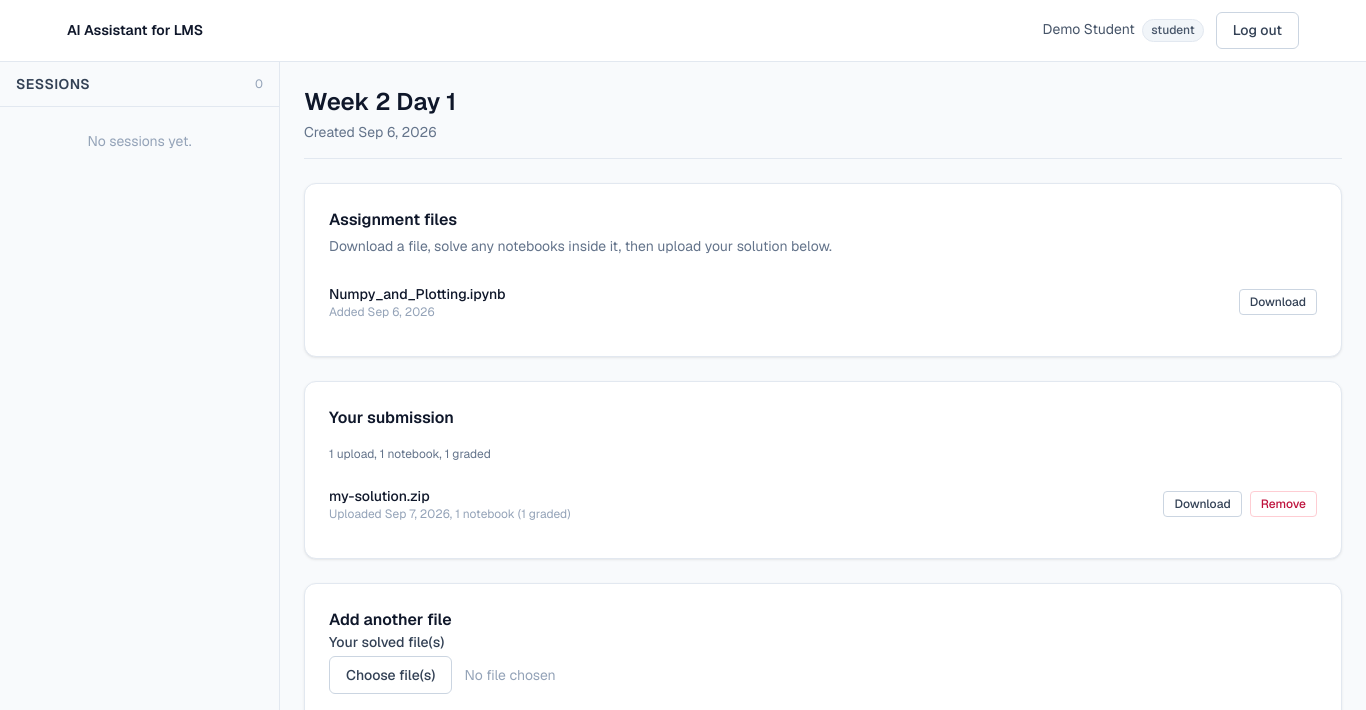
Test: <StudentSessionDetail /> — per-upload download › reports a download failure without disturbing the delete controls
Expected: the heading "Week 2 Day 1" is shown, [304, 86, 456, 117]
Step 1. Click the button "Download" in the row of ", 1 notebook (1 graded)" → (1203, 504), box [1163, 491, 1242, 517]
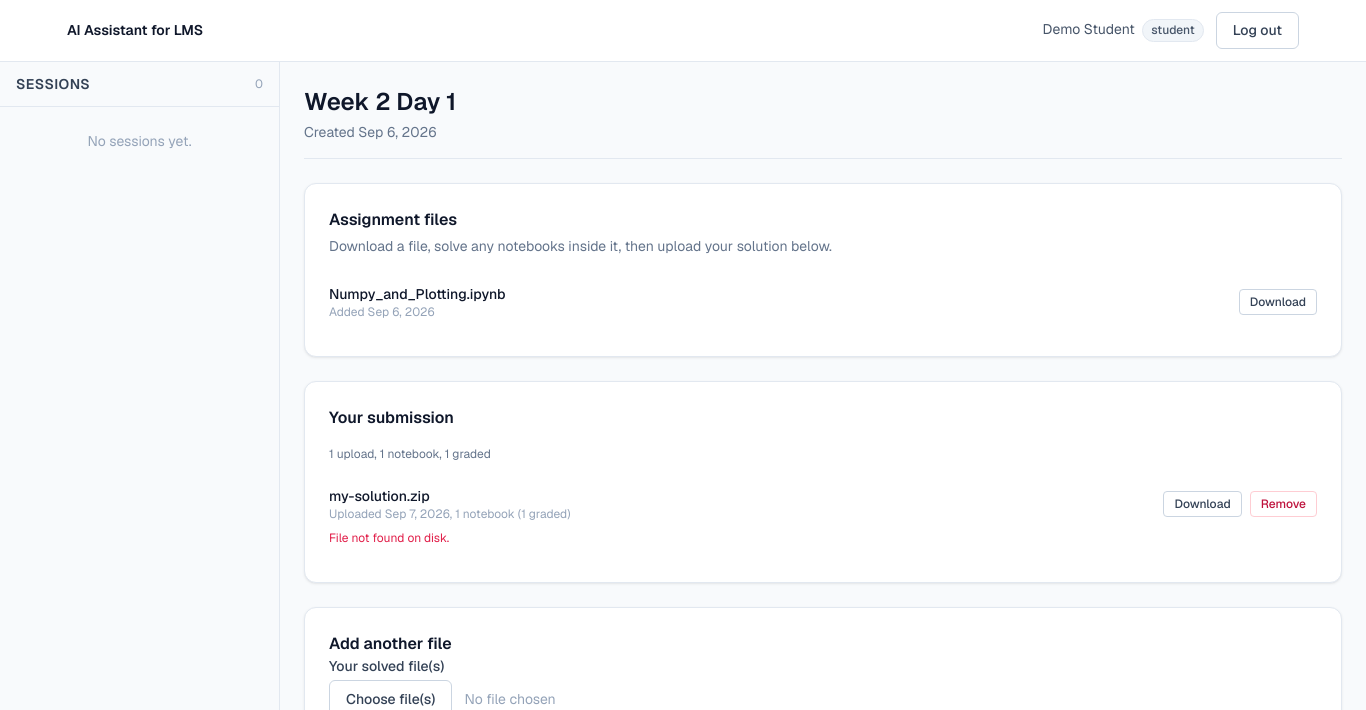
Expected: the button "Remove" is enabled, [1250, 491, 1317, 517]
Result: the message reads "File not found on disk." at [329, 530, 449, 546]
